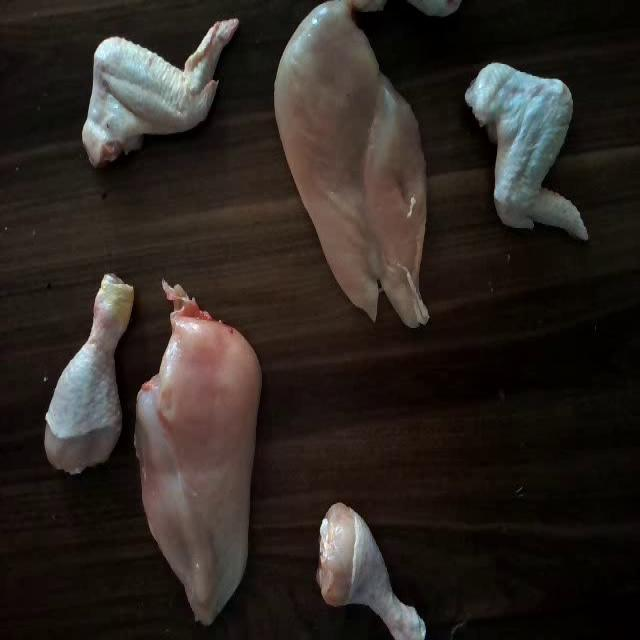breast: (279, 5, 442, 328), (143, 278, 267, 630)
leg: (41, 278, 148, 502), (308, 499, 438, 640)
wing: (70, 8, 244, 170), (464, 56, 598, 248)
